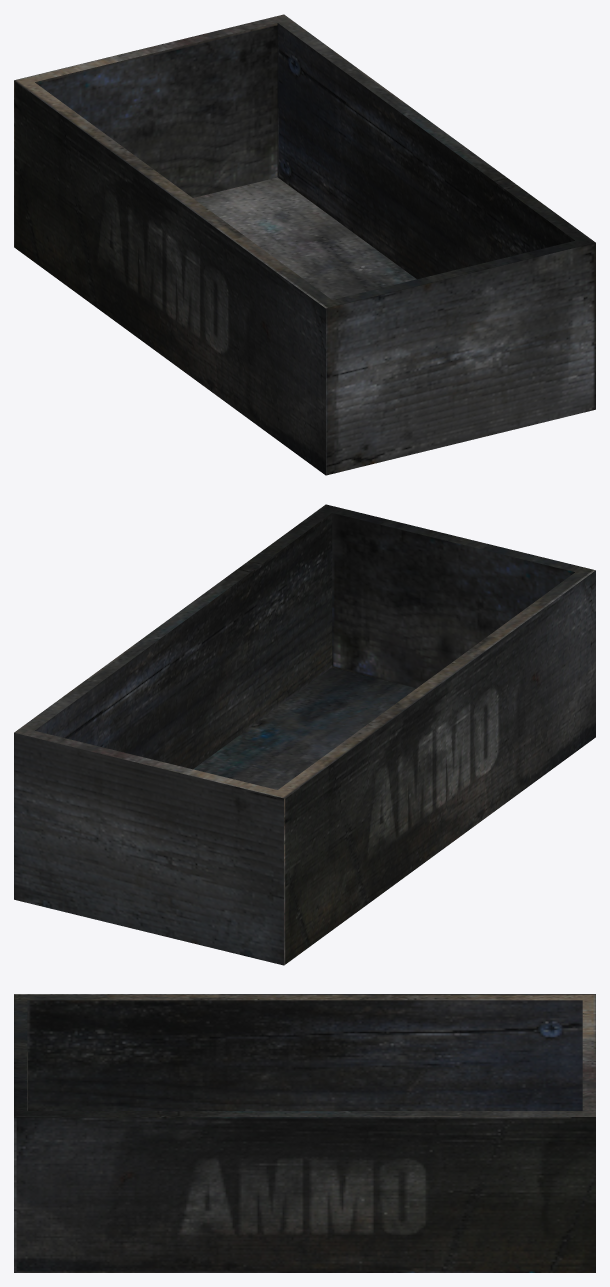
File: crate.gltf
3 renders of one model, top to bottom at view 1: azimuth 30°, elevation 25°; view 2: azimuth 150°, elevation 25°; view 3: azimuth 270°, elevation 25°, orthographic. The views are drawn at different scales.
Visible parts, largest first — view 1: Crate_Cube; view 2: Crate_Cube; view 3: Crate_Cube.
Part boxes in pixels (<box>): Crate_Cube: <box>14,14,595,475</box>; Crate_Cube: <box>14,504,595,965</box>; Crate_Cube: <box>14,994,595,1272</box>.
Bounding box in the file's own units: 1 × 0.5908 × 2.
1 material, 1 textured.
